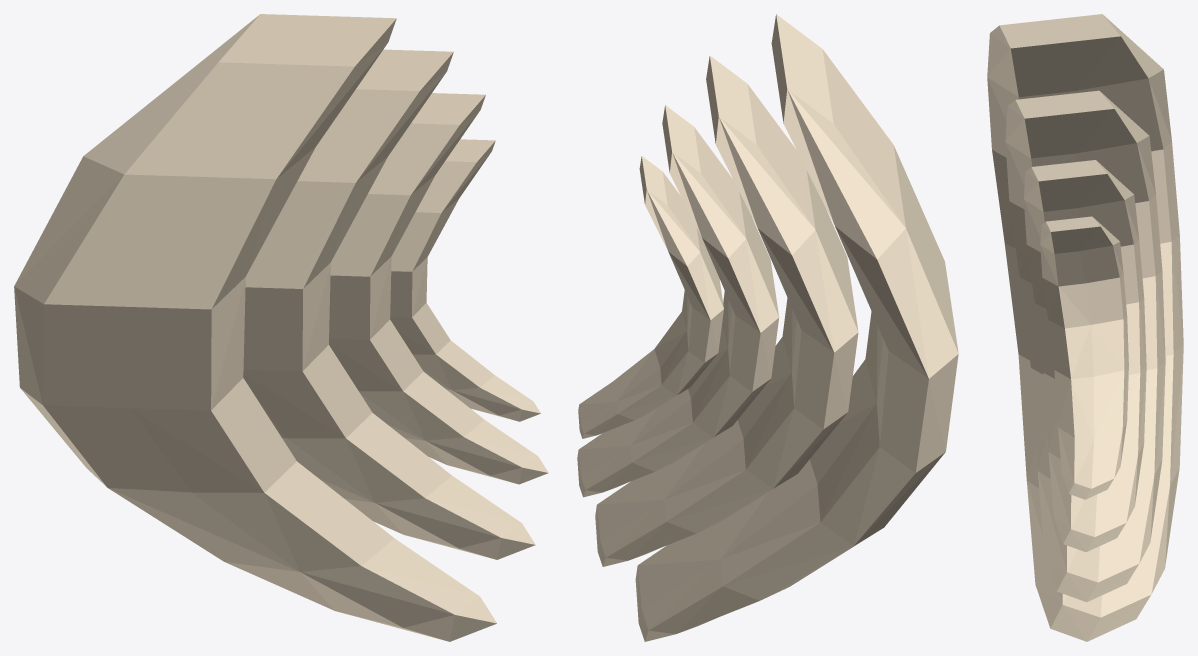
Rendered from Golgi.fbx.
3 renders of one model, left to right at view 1: azimuth 30°, elevation 25°; view 2: azimuth 150°, elevation 25°; view 3: azimuth 270°, elevation 25°, orthographic. The views are drawn at different scales.
Parts seen in each view (by area): view 1: Golgi; view 2: Golgi; view 3: Golgi.
Boxes of the visible parts, box(x1,y1,x2,y2) form: Golgi: box(14, 14, 548, 641); Golgi: box(577, 14, 958, 641); Golgi: box(987, 14, 1183, 641).
Bounding box in the file's own units: 76.77 × 107 × 33.22.
